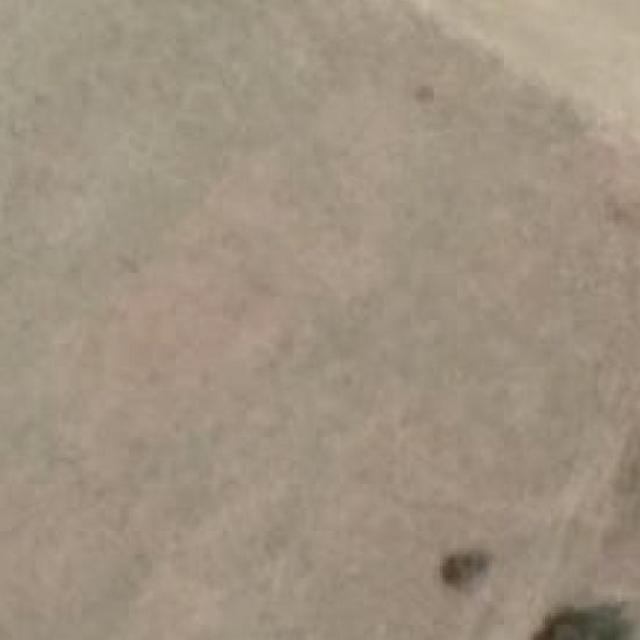Tree: (532, 598, 630, 640), (437, 545, 496, 590)
